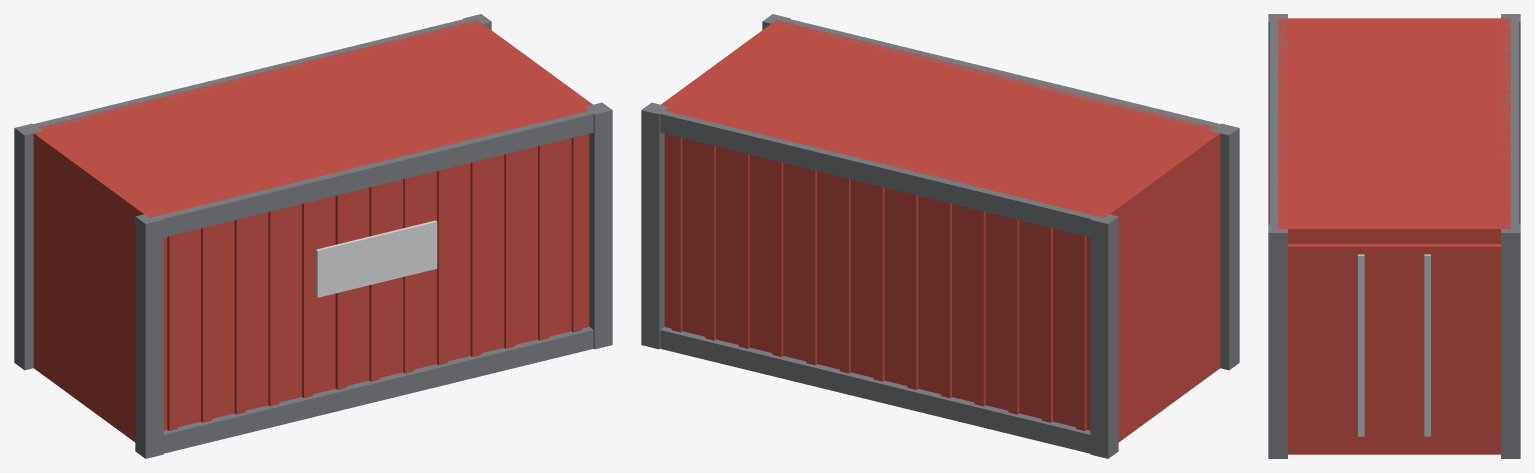
File: SM_Cargo_Container.glb
The picture shows the model from 3 angles, left to right: view 1: azimuth 30°, elevation 25°; view 2: azimuth 150°, elevation 25°; view 3: azimuth 270°, elevation 25°; orthographic projection. The views are drawn at different scales.
Visible parts, largest first — view 1: SM_Cargo_Container; view 2: SM_Cargo_Container; view 3: SM_Cargo_Container.
Part boxes in pixels (x1,y1,x2,y2): SM_Cargo_Container: (14, 14, 612, 458); SM_Cargo_Container: (641, 14, 1239, 458); SM_Cargo_Container: (1268, 14, 1520, 458).
Size of the model in its own units: 3.12 by 1.5 by 1.52.
